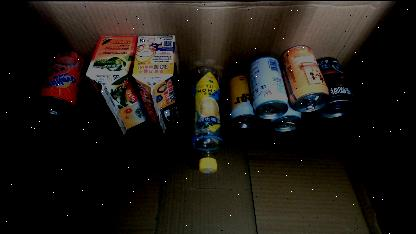Can: (36, 48, 88, 115), (278, 44, 328, 112), (246, 56, 288, 118), (316, 56, 354, 118), (226, 74, 258, 128), (268, 100, 300, 130)
Plastic Bottle: (189, 64, 223, 172)
